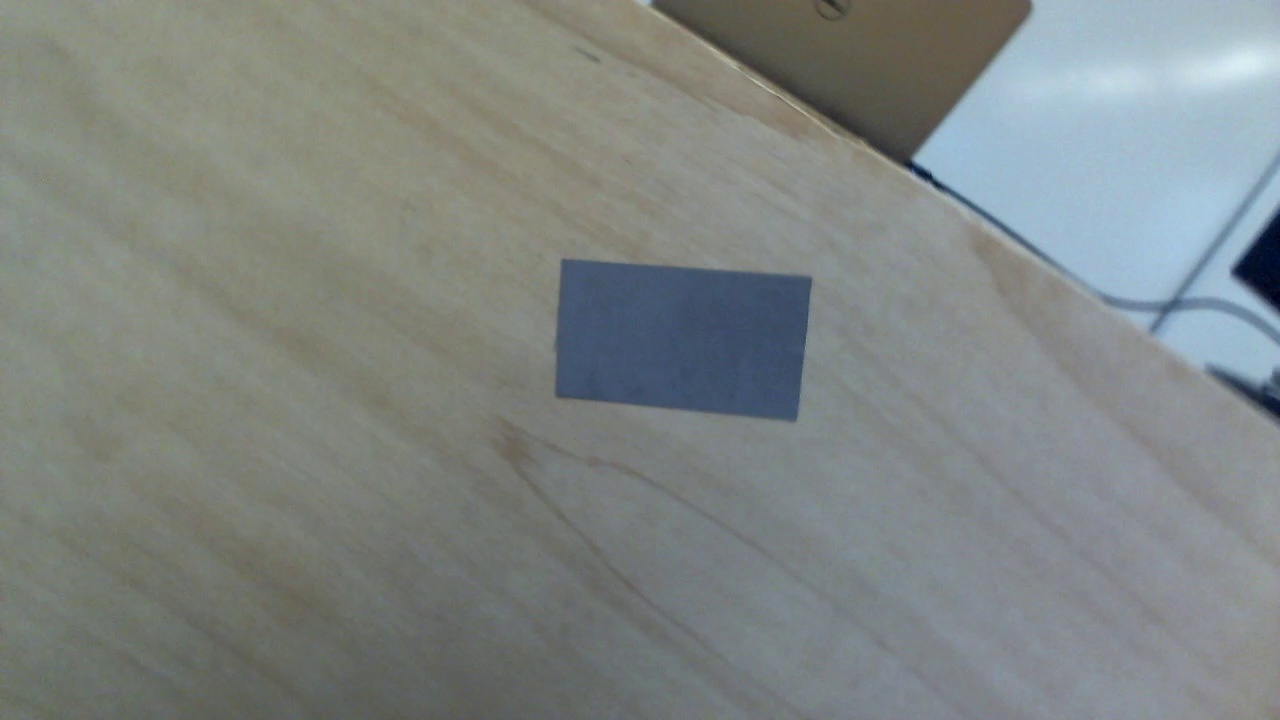Tape: (554, 258, 814, 423)
